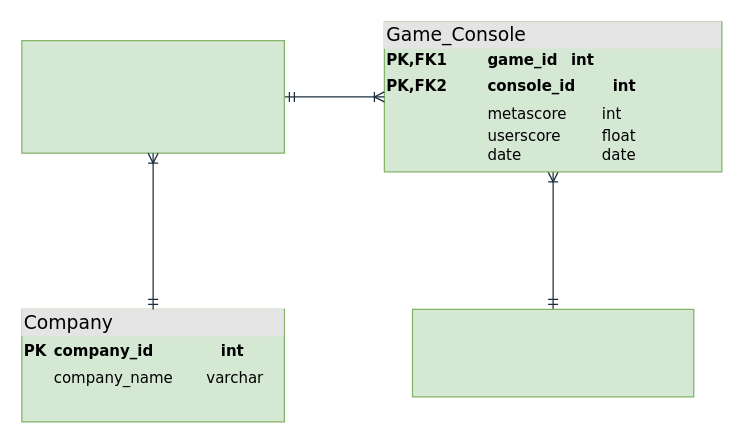
The diagram is 744 pixels wide and 444 high, and some of its shapes have lost their labels. Each missing label, with the box of its shape:
Console PK console_id int FK1 company_id int console_name varchar: (21, 39, 284, 153)
Game PK game_id int name varchar: (411, 308, 694, 397)
